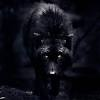Lobo: (25, 9, 77, 96)
